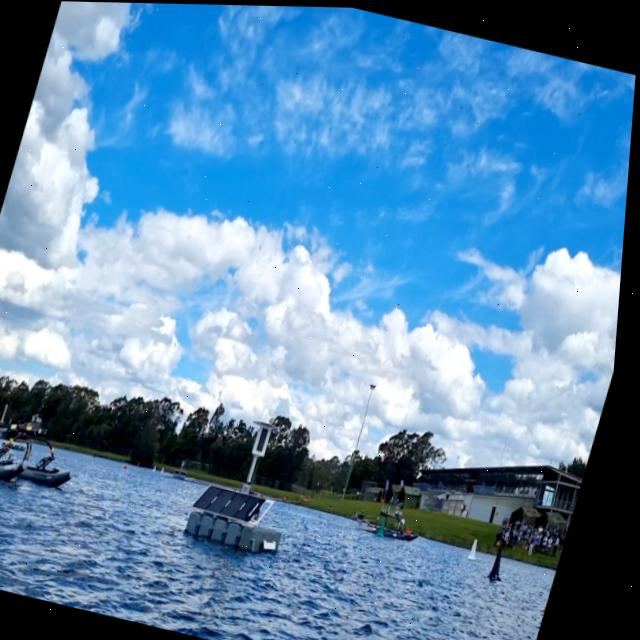led: (259, 423, 277, 454)
